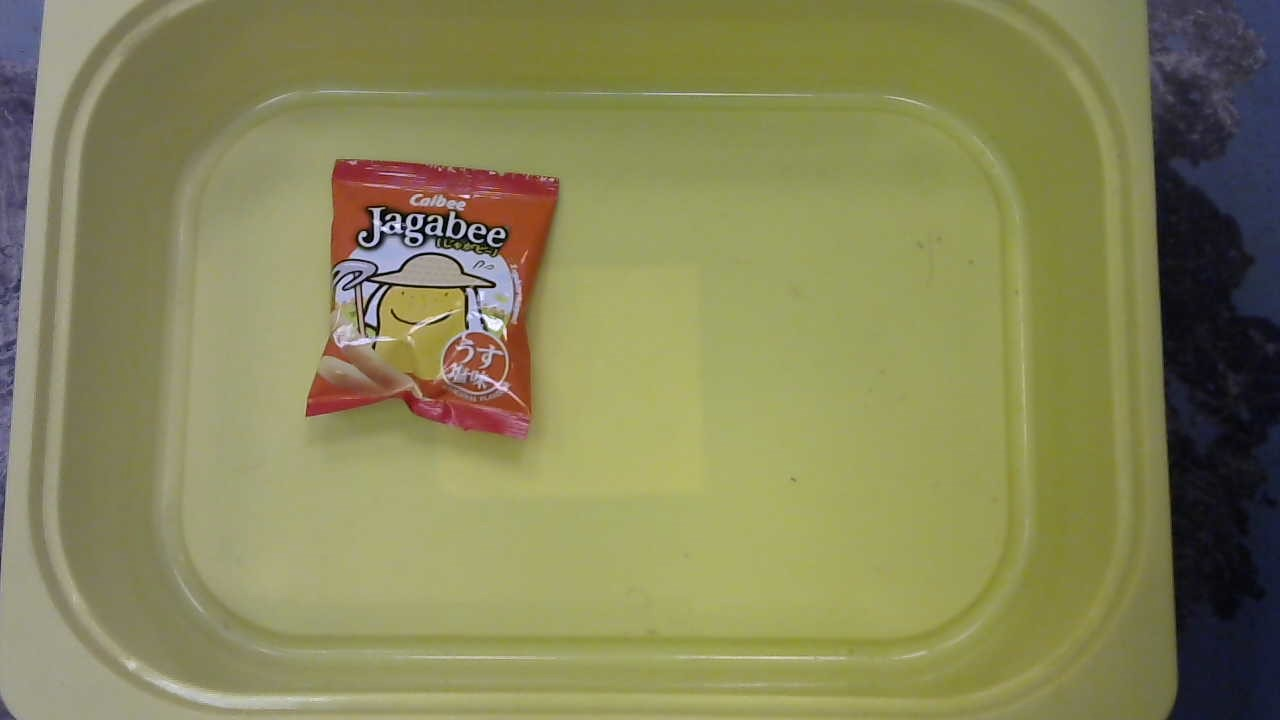JagabeeFarmer: (301, 154, 559, 447)
